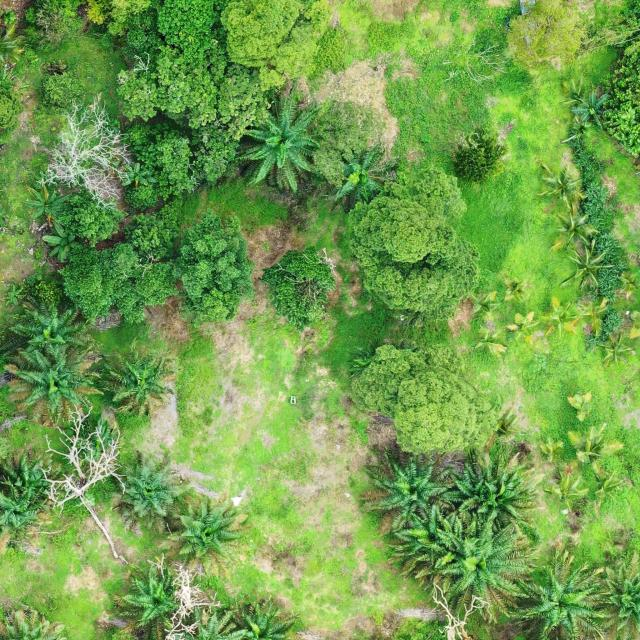Tree: (345, 163, 481, 317), (351, 342, 493, 458), (428, 511, 536, 618), (436, 446, 542, 551), (235, 78, 326, 192), (170, 206, 257, 324), (58, 241, 178, 326), (517, 543, 615, 640), (364, 439, 458, 534), (310, 98, 384, 186), (115, 450, 193, 532), (6, 292, 96, 361), (262, 247, 336, 326), (165, 494, 248, 563), (100, 350, 176, 418), (508, 4, 588, 67), (330, 138, 398, 204), (117, 568, 181, 634), (450, 125, 505, 185), (549, 200, 600, 253), (563, 239, 615, 289), (538, 160, 587, 209), (22, 179, 72, 223), (41, 218, 80, 262), (570, 92, 611, 129)
